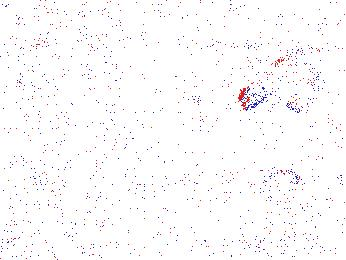flame jellyfish: (239, 55, 321, 113), (258, 168, 308, 219), (1, 170, 36, 236)
